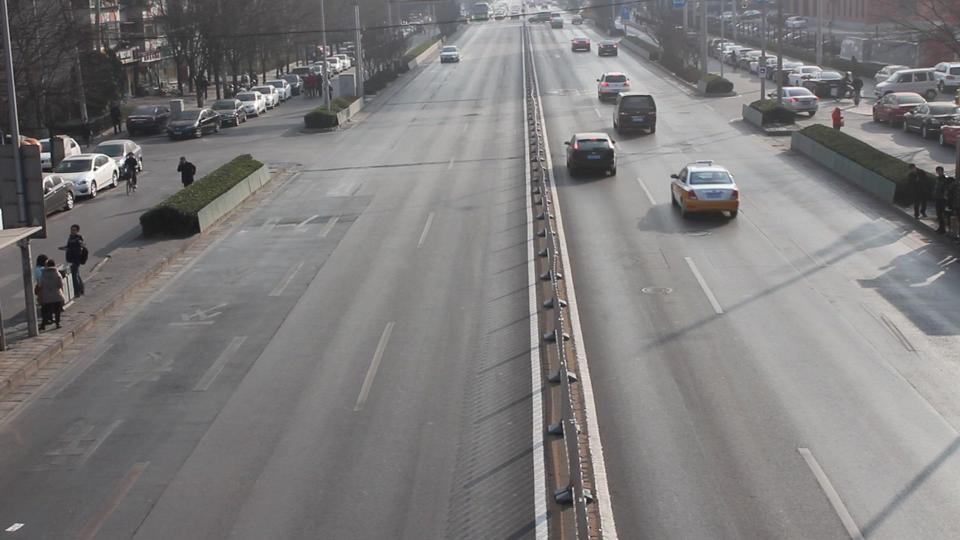Car: (669, 162, 742, 222), (566, 133, 619, 179), (597, 71, 632, 99), (571, 34, 592, 58), (438, 44, 460, 66), (597, 39, 622, 58)
Minivan: (615, 92, 659, 138)
